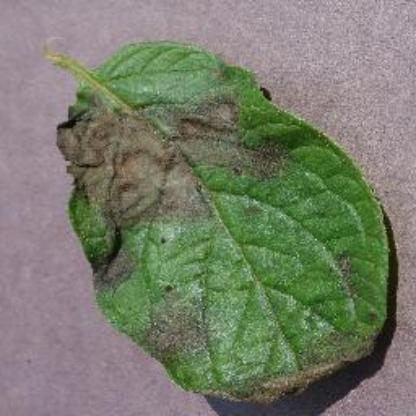Late-Blight: (50, 45, 400, 415)
